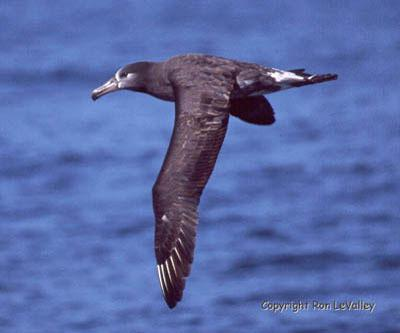001.Black_footed_Albatross: (91, 53, 342, 310)
